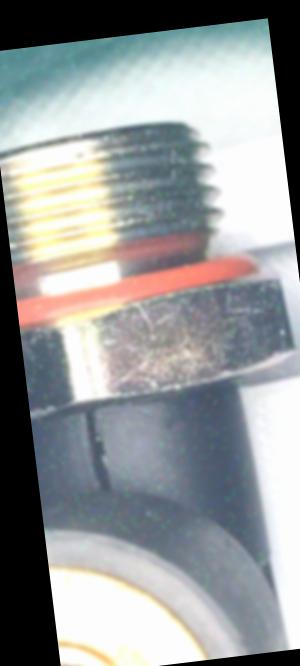craze: (73, 405, 121, 500)
